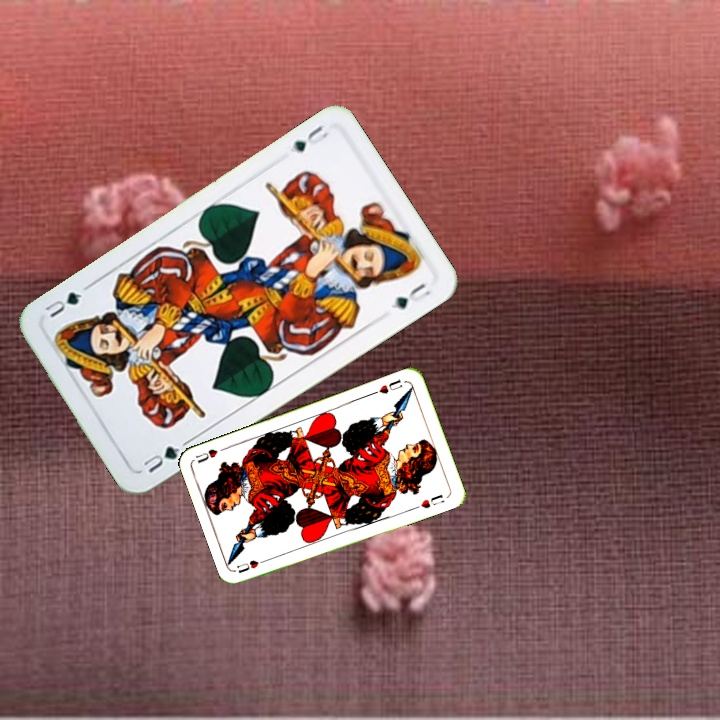GU: (286, 121, 332, 156), (139, 442, 183, 476)
HU: (233, 554, 272, 576), (375, 375, 405, 396)
